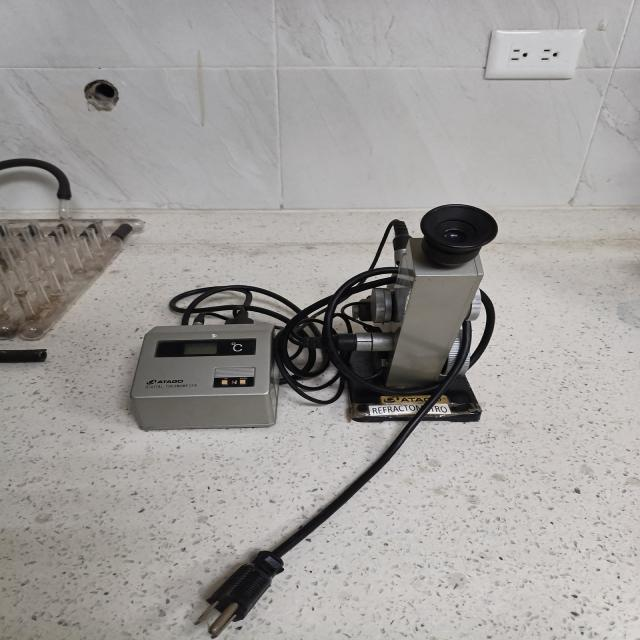Refractometro Digital Abbe de Mesa: (130, 204, 497, 430)
